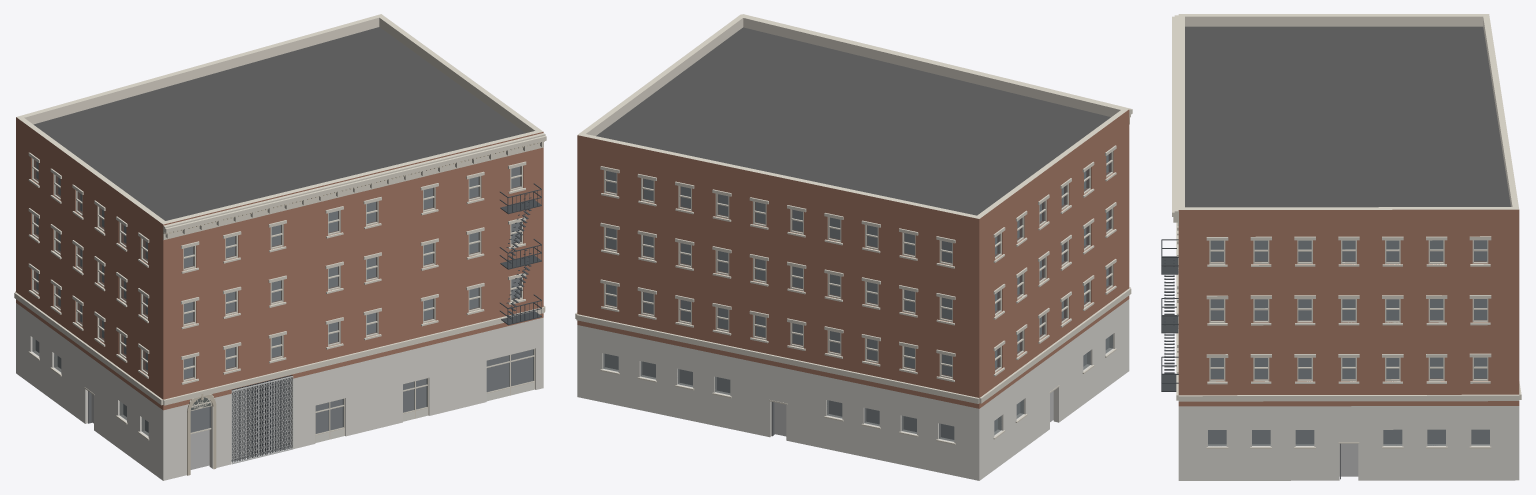
File: exterior.glb
3 views of the same model, side by side, from view 1: azimuth 30°, elevation 25°; view 2: azimuth 150°, elevation 25°; view 3: azimuth 270°, elevation 25° (orthographic). The views are drawn at different scales.
Parts seen in each view (by area): view 1: shell, roof, trim, glazing, shadow-proxy, storefront, frames, lattice-gates-0, fire-escape, hyC-arches-0; view 2: shell, roof, trim, glazing, shadow-proxy, frames; view 3: shell, roof, trim, glazing, shadow-proxy, frames, fire-escape.
Part boxes in pixels (x1,y1,x2,y2): shell: (16,14,543,480); roof: (33,27,525,220); trim: (14,133,546,440); glazing: (32,160,533,435); shadow-proxy: (36,162,532,469); storefront: (84,348,535,462); frames: (32,158,522,381); lattice-gates-0: (232,376,293,464); fire-escape: (499,183,541,325); hyC-arches-0: (187,393,216,475); shell: (577,14,1129,480); roof: (596,27,1110,215); trim: (575,14,1132,444); glazing: (603,153,1112,441); shadow-proxy: (605,155,1108,439); frames: (604,151,1113,378); shell: (1178,14,1519,480); roof: (1185,26,1510,207); trim: (1172,15,1521,448); glazing: (1208,240,1489,446); shadow-proxy: (1208,240,1489,476); frames: (1209,240,1488,381); fire-escape: (1161,239,1178,391).
Bounding box in the file's own units: 25.06 × 15.98 × 19.26.
